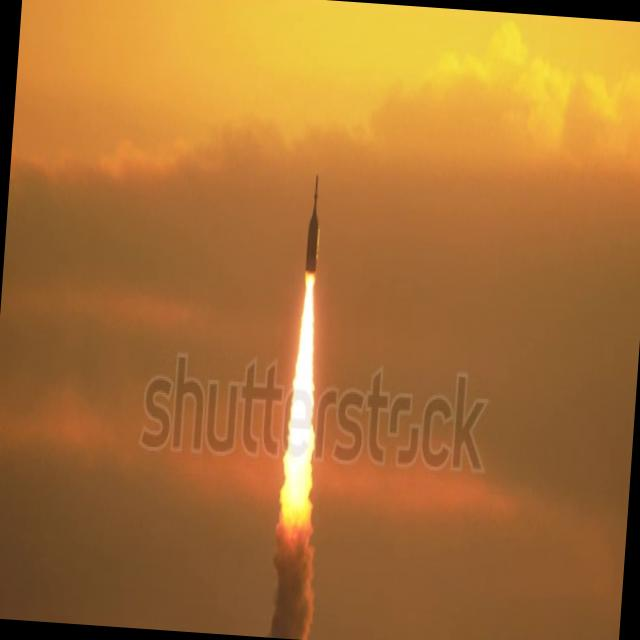rocket: (286, 166, 329, 460)
